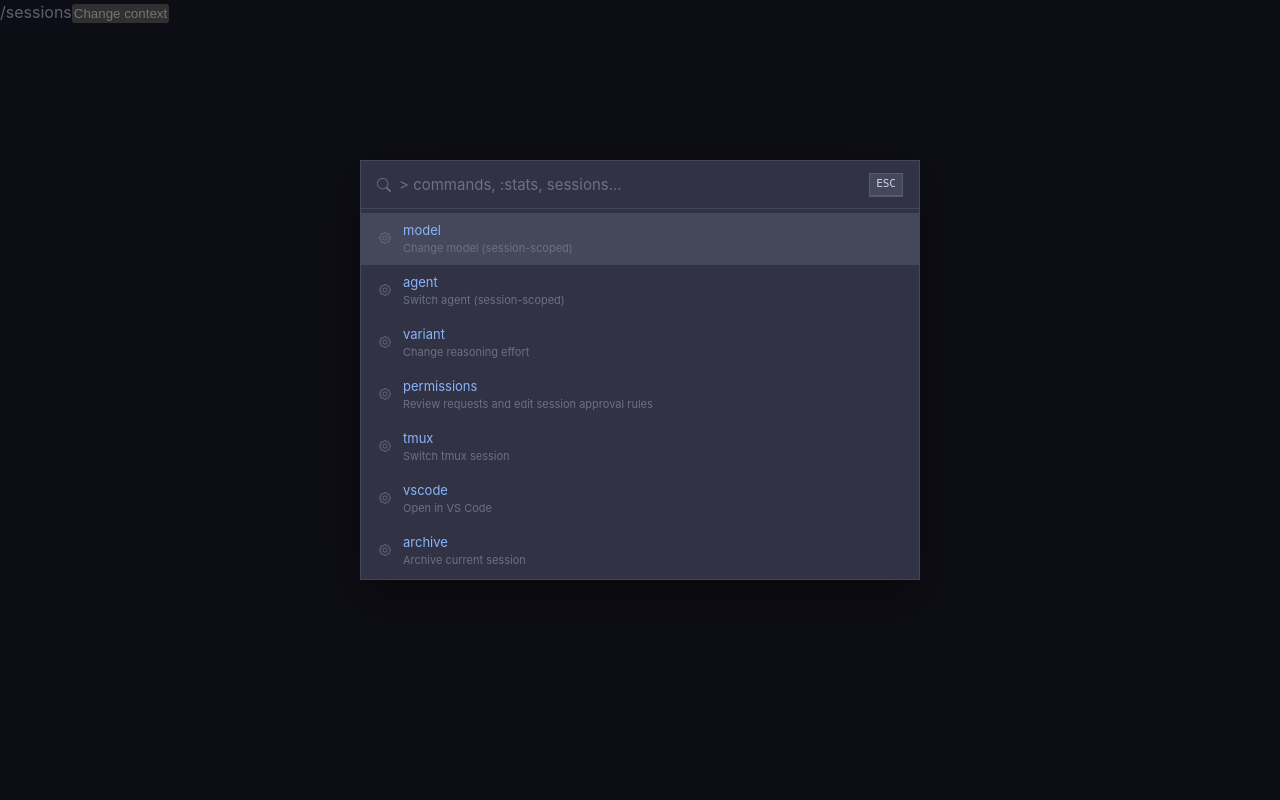
Scenario: plugin command contributions › handles an expired or conflicting confirmation
Type ">Create report" into the dropdown at (630, 184), box x1=399 y1=175 x2=861 y2=194
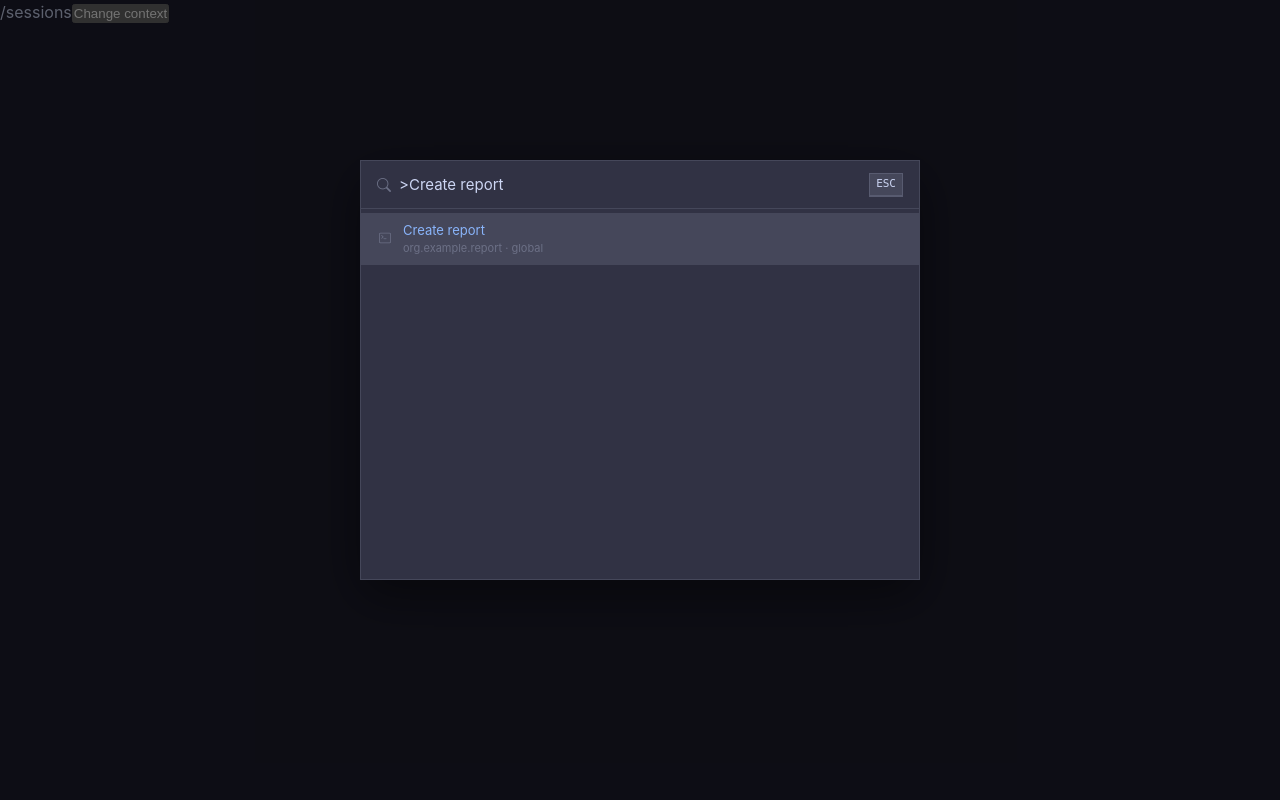
Result: the option "Create report org.example.report · global" is shown at x1=361 y1=212 x2=919 y2=264
Press Enter in the dropdown, box x1=399 y1=175 x2=861 y2=194
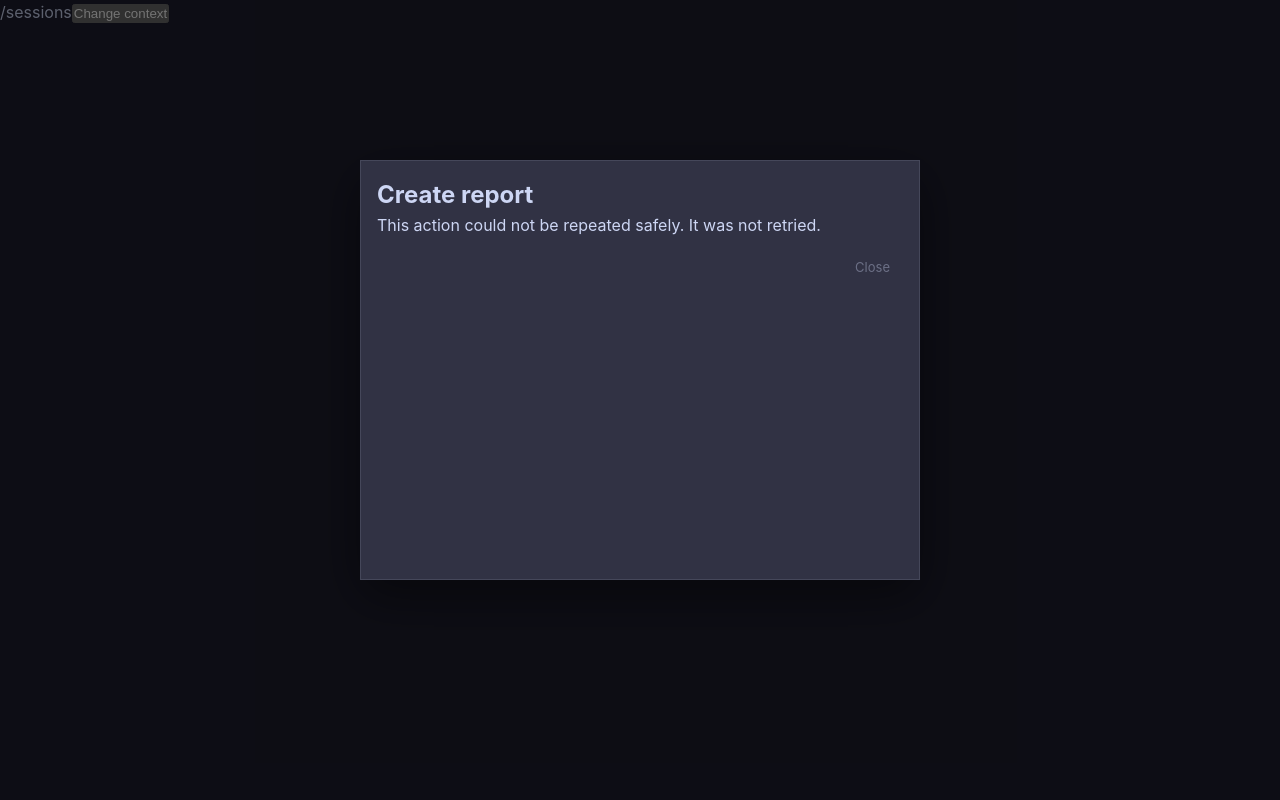
Result: the message shows "not be repeated safely" at x1=377 y1=215 x2=821 y2=235
